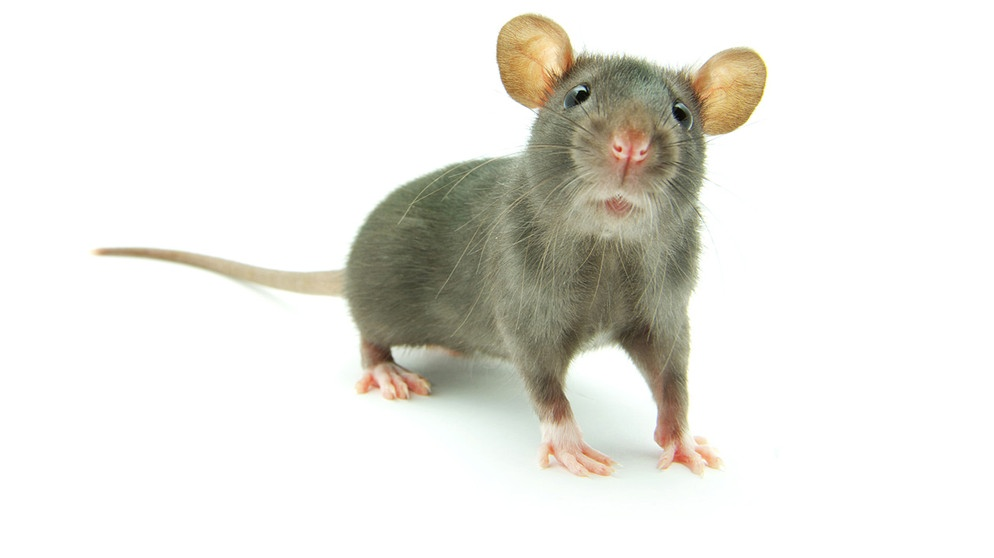rat: (302, 13, 787, 485)
